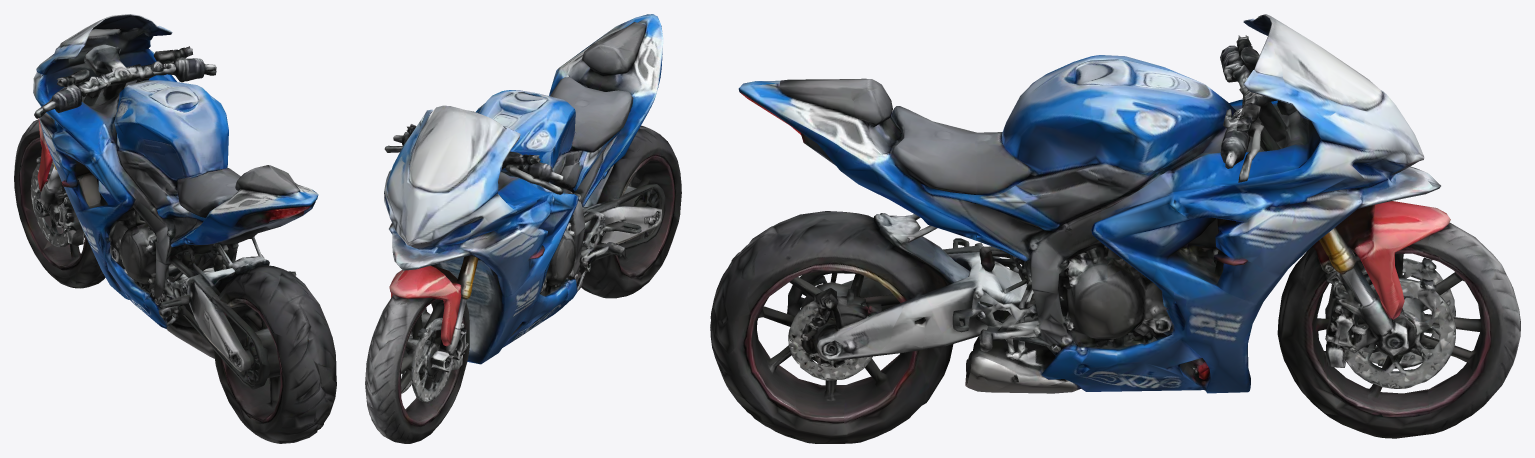
File: saphir.glb
3 renders of one model, left to right at view 1: azimuth 30°, elevation 25°; view 2: azimuth 150°, elevation 25°; view 3: azimuth 270°, elevation 25°, orthographic. The views are drawn at different scales.
Parts seen in each view (by area): view 1: body, wheel_r, wheel_f; view 2: body, wheel_f, wheel_r; view 3: body, wheel_r, wheel_f.
Boxes of the visible parts, <box> form: body: <box>29,14,331,389</box>; wheel_r: <box>213,280,336,443</box>; wheel_f: <box>14,121,105,288</box>; body: <box>366,14,665,409</box>; wheel_f: <box>365,298,469,443</box>; wheel_r: <box>581,134,681,298</box>; body: <box>711,14,1520,394</box>; wheel_r: <box>710,238,949,443</box>; wheel_f: <box>1277,241,1518,438</box>.
Bounding box in the file's own units: 0.7432 × 1.19 × 2.1.
1 material, 1 textured.
